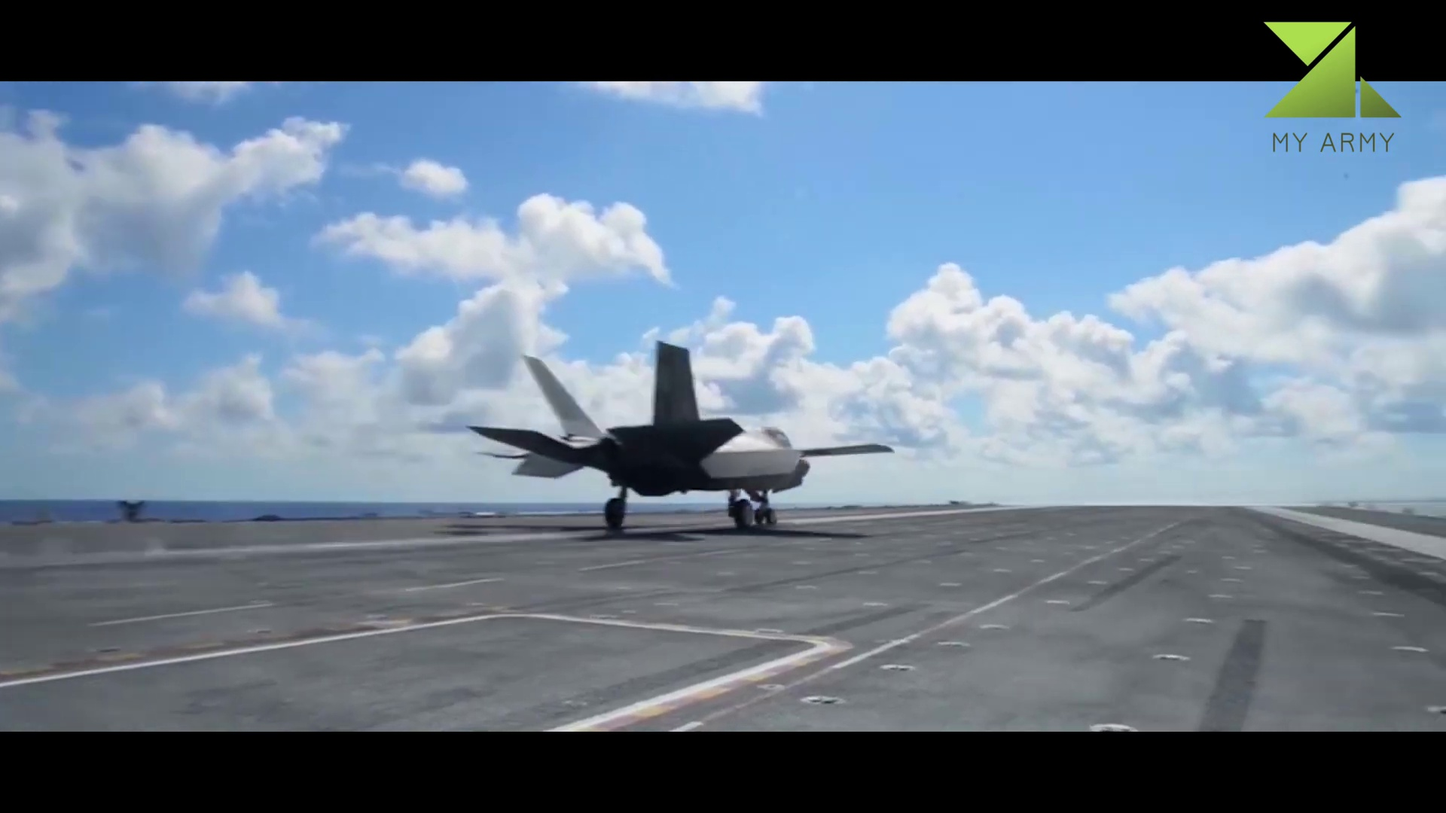F35: (459, 331, 903, 545)
